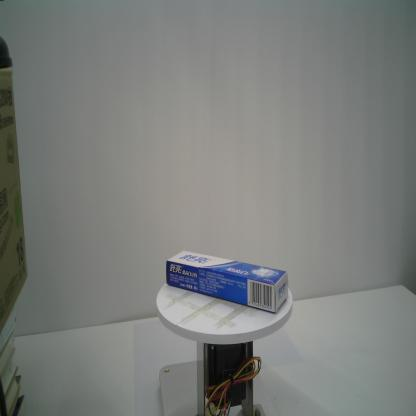Personal Hygiene: (166, 249, 289, 314)
